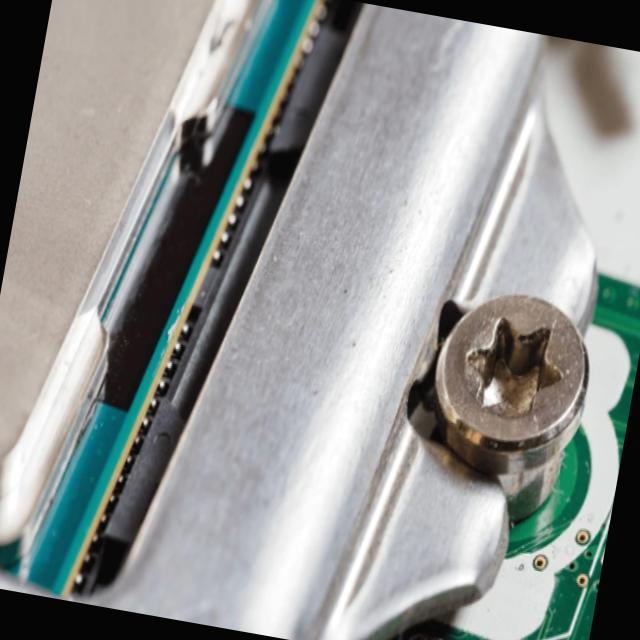Torx: (426, 280, 595, 452)
